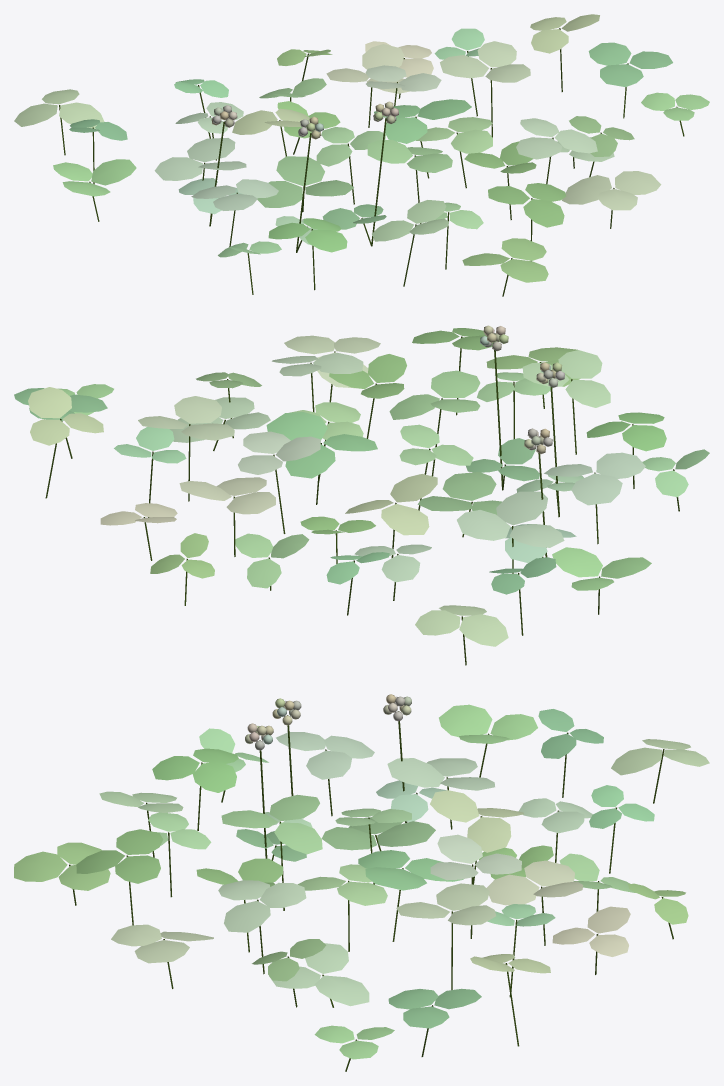
Rendered from CloverClump_v02_B_Flowering.fbx.
3 views of the same model, one above another, from view 1: azimuth 30°, elevation 25°; view 2: azimuth 150°, elevation 25°; view 3: azimuth 270°, elevation 25° (orthographic). The views are drawn at different scales.
Visible parts, largest first — view 1: CloverClump_v02_B_Flowering; view 2: CloverClump_v02_B_Flowering; view 3: CloverClump_v02_B_Flowering.
Part boxes in pixels (left/top/right/bottom): CloverClump_v02_B_Flowering: left=14, top=14, right=709, bottom=296; CloverClump_v02_B_Flowering: left=14, top=325, right=709, bottom=665; CloverClump_v02_B_Flowering: left=14, top=694, right=709, bottom=1071.
Size of the model in its own units: 164 by 37.67 by 146.
